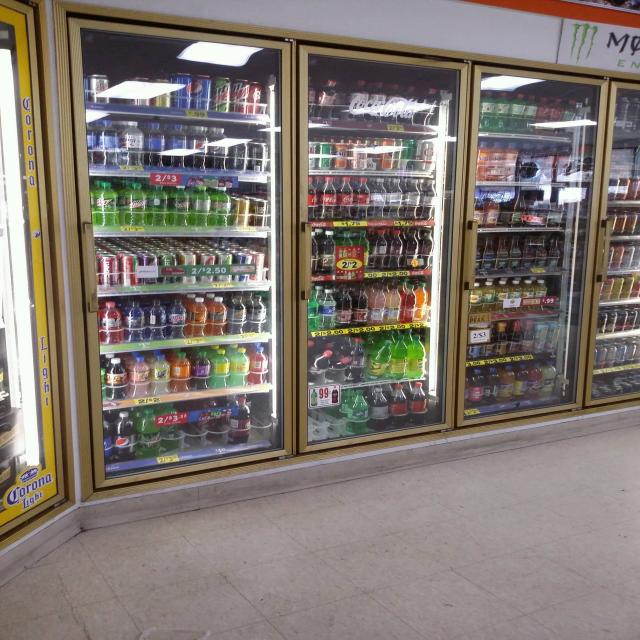empty: (249, 395, 272, 443), (326, 394, 345, 438), (309, 396, 325, 438), (107, 79, 131, 103)
